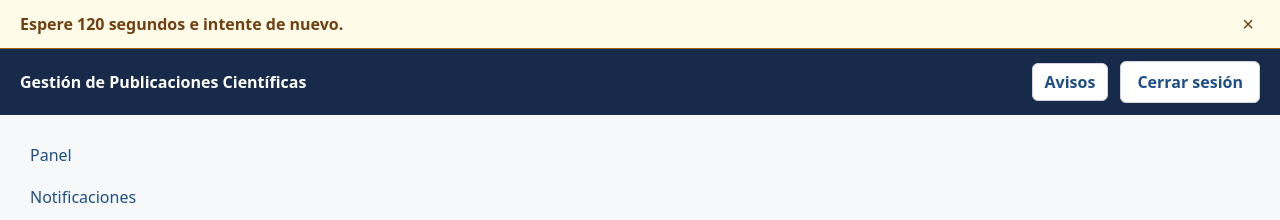
Scenario: ShellComponent › renderiza el mensaje accionable de la API y permite cerrarlo
Expected: the message "Espere 120 segundos e intente de nuevo. ×" is shown, 0,0 -> 1279,49
Click the button with class "app-feedback__dismiss" at coordinates (1248, 24), box 1236,13 -> 1260,35
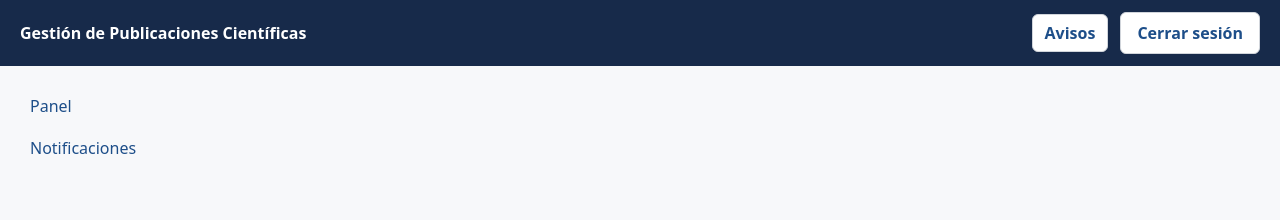
Now the message with class "app-feedback" is gone
